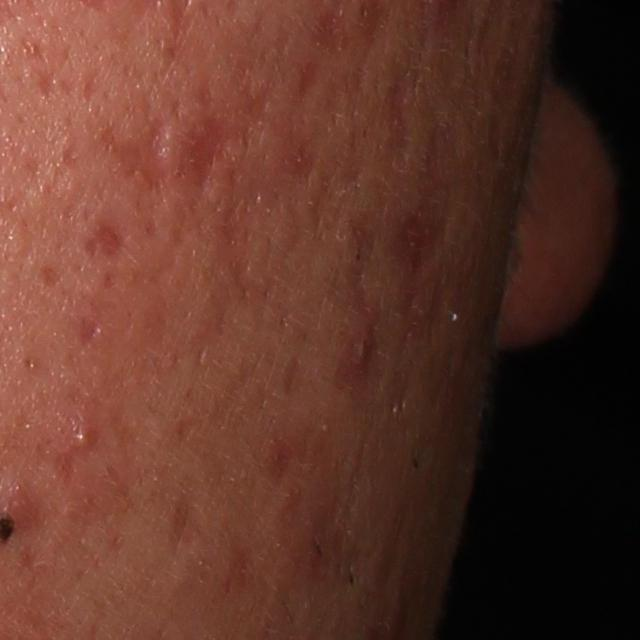atrophic_scar: (101, 111, 175, 196), (174, 113, 239, 201), (383, 63, 424, 175), (169, 497, 207, 562), (235, 79, 271, 146), (84, 217, 129, 261), (75, 314, 105, 345)
comedo: (16, 353, 40, 375)
papule: (348, 321, 385, 371)
pustule: (70, 421, 102, 449)
